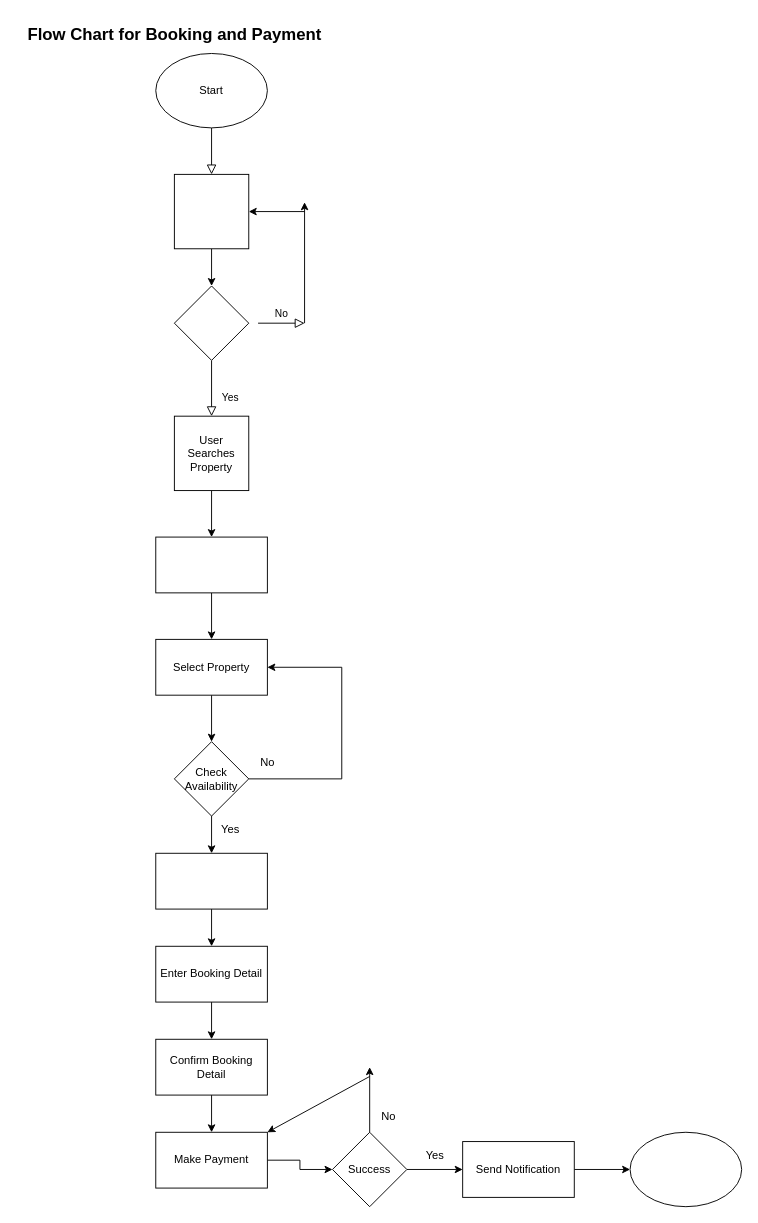
Image size: 758x1223. Some labels were removed from this diagram. The box of each missing label's shape, as (x1, y1, x2, y2) in pixels:
Apply Filters: (155, 536, 267, 593)
Check: (173, 285, 249, 360)
End: (629, 1131, 742, 1207)
Initiate Booking: (155, 852, 267, 909)
Login: (173, 173, 249, 249)
